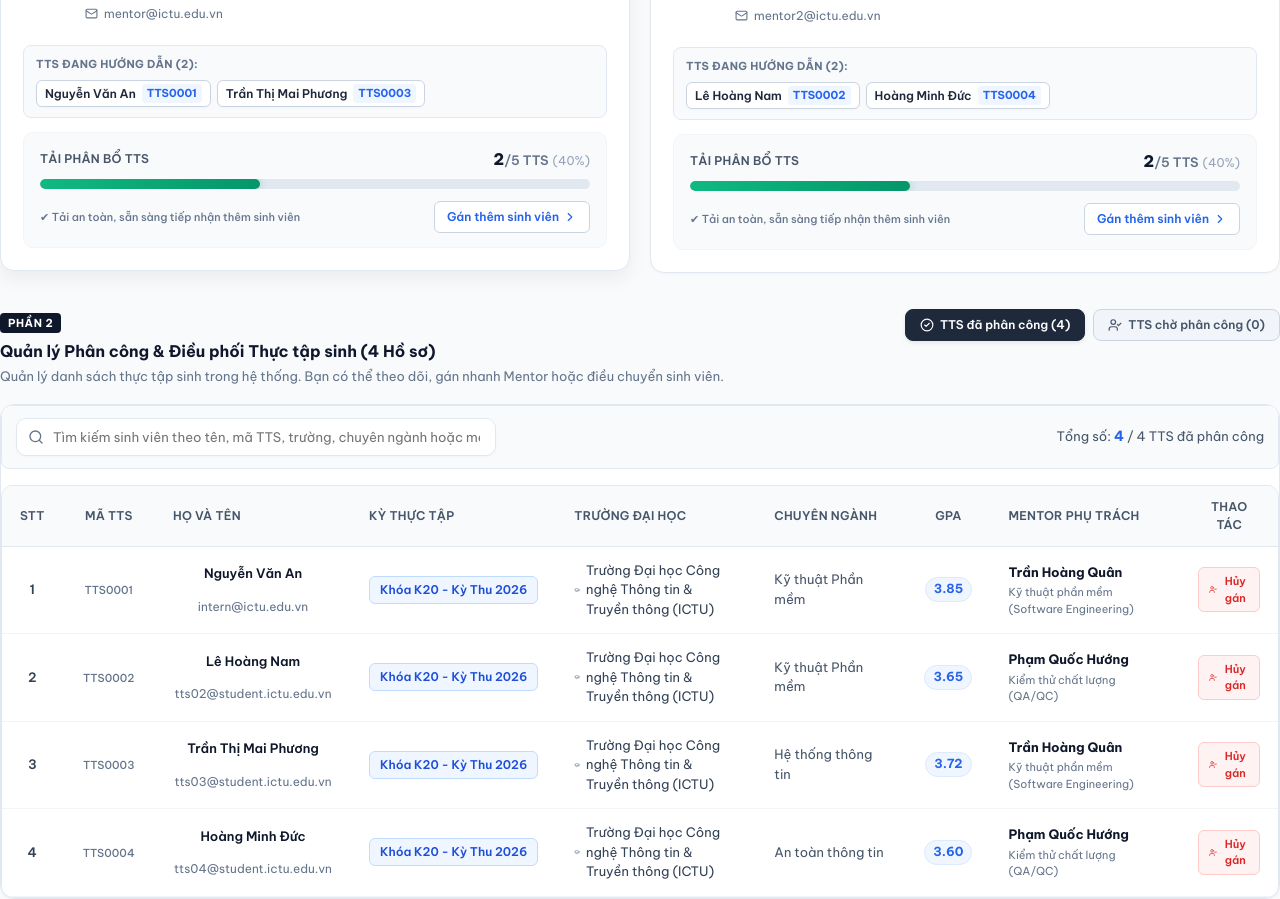
Test: MentorAssignmentPage Component Test Suite › hiển thị 4 thẻ KPI cân bằng tải và thực hiện Tự động Cân bằng Tải công việc
The image size is (1280, 899).
(page scrolled)
// Hủy gán 1 sinh viên để có sinh viên chờ phân công
Click the button "Hủy gán" in the row of "intern@ictu.edu.vn". click: (1229, 590)
box: [1198,567,1260,612]
(page scrolled)
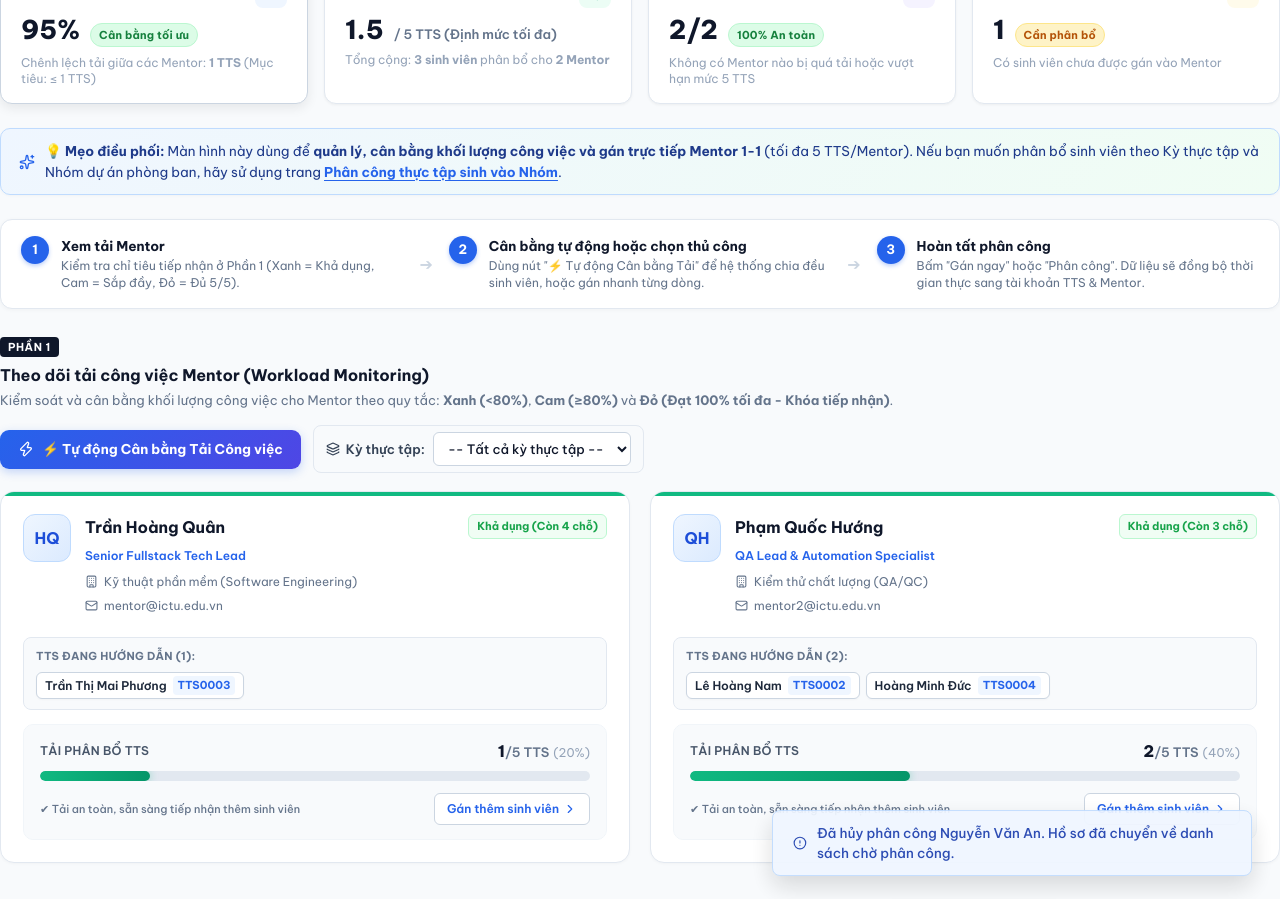
Now the text "Hồ sơ đã chuyển về danh sách chờ phân công" is shown, box [817,823,1214,861]
// Bấm nút Tự động Cân bằng Tải
Click the button "⚡ Tự động Cân bằng Tải Công việc". click: (150, 449)
box: [0,430,301,469]
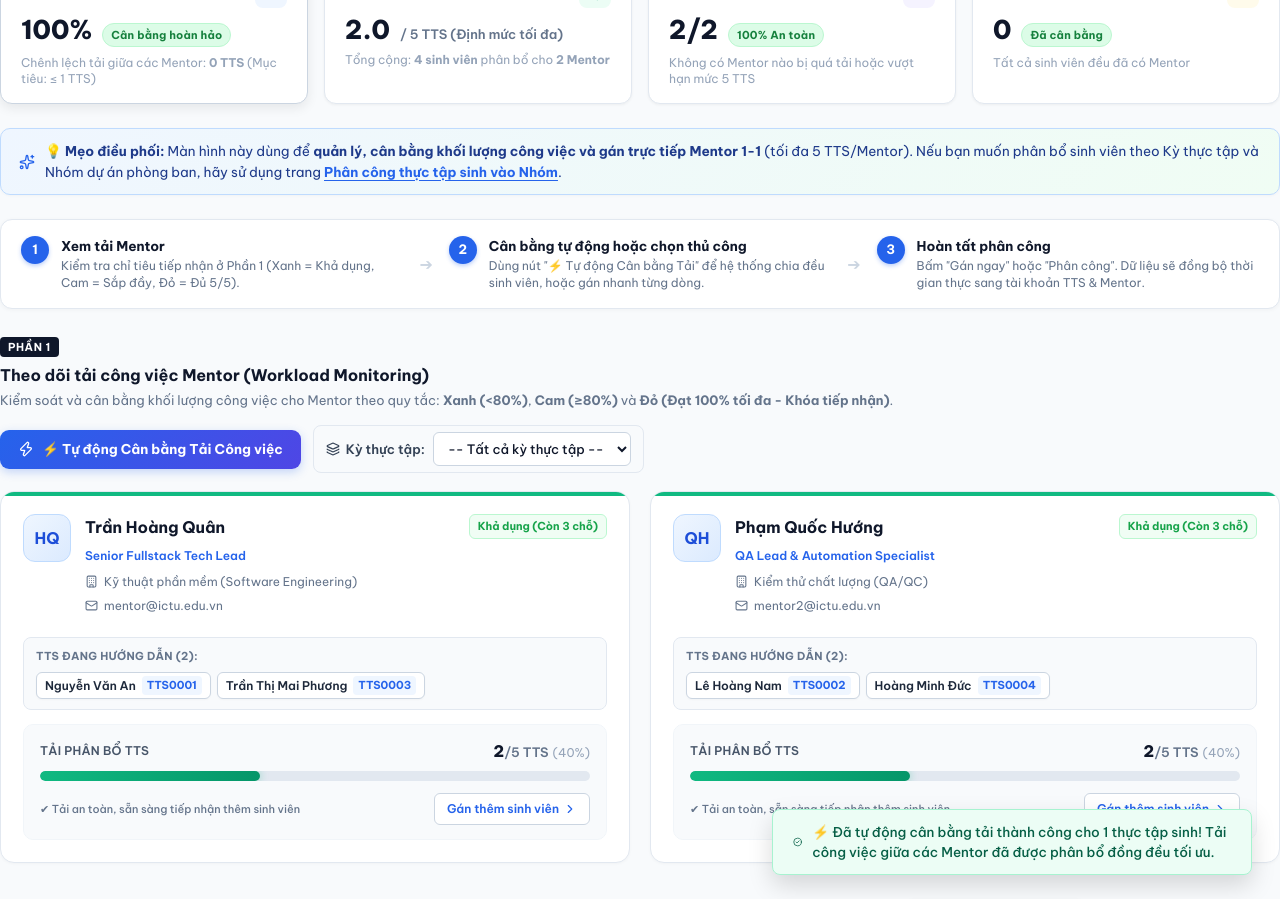
Now the text "Đã tự động cân bằng tải thành công" is shown, box [812,822,1226,861]
